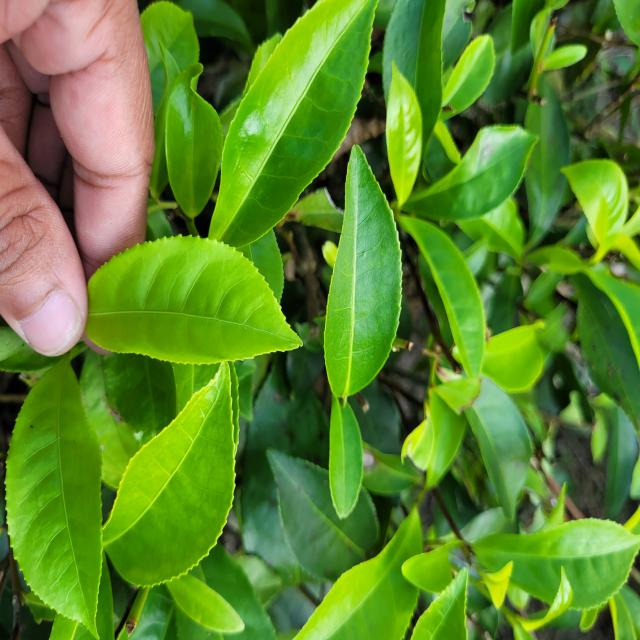Category B 2-4 days: (57, 215, 313, 384)
